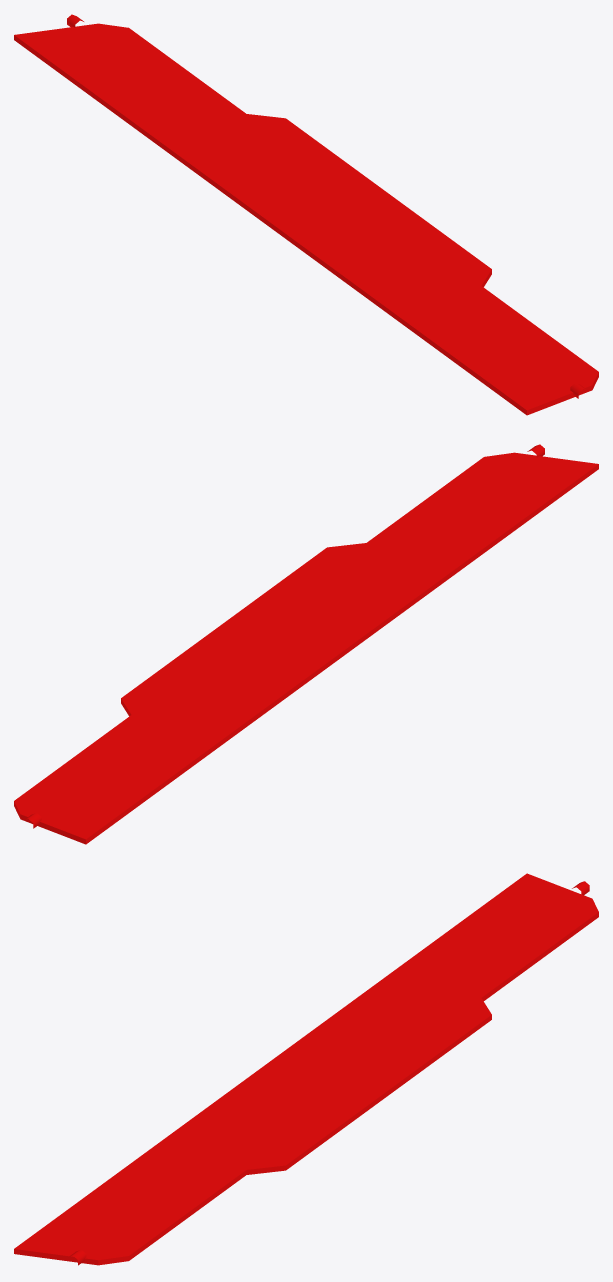
File: SM__cassette_air_conditioner_01_d.glb
3 renders of one model, top to bottom at view 1: azimuth 30°, elevation 25°; view 2: azimuth 150°, elevation 25°; view 3: azimuth 330°, elevation 25°, orthographic.
Visible parts, largest first — view 1: SM__cassette_air_conditioner_01_d; view 2: SM__cassette_air_conditioner_01_d; view 3: SM__cassette_air_conditioner_01_d.
Boxes of the visible parts, left/top/right/bottom form: SM__cassette_air_conditioner_01_d: left=14, top=14, right=598, bottom=415; SM__cassette_air_conditioner_01_d: left=14, top=444, right=598, bottom=844; SM__cassette_air_conditioner_01_d: left=14, top=873, right=598, bottom=1265.
Size of what is drawn, in the model's own units: 0.05 by 0.00478 by 0.3747.
